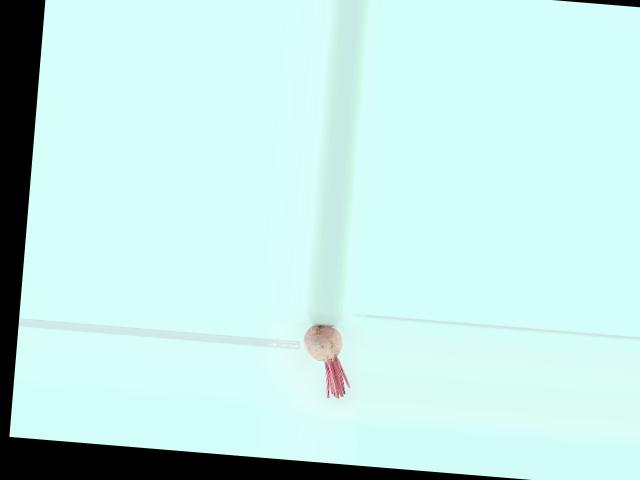beet: (298, 323, 354, 398)
